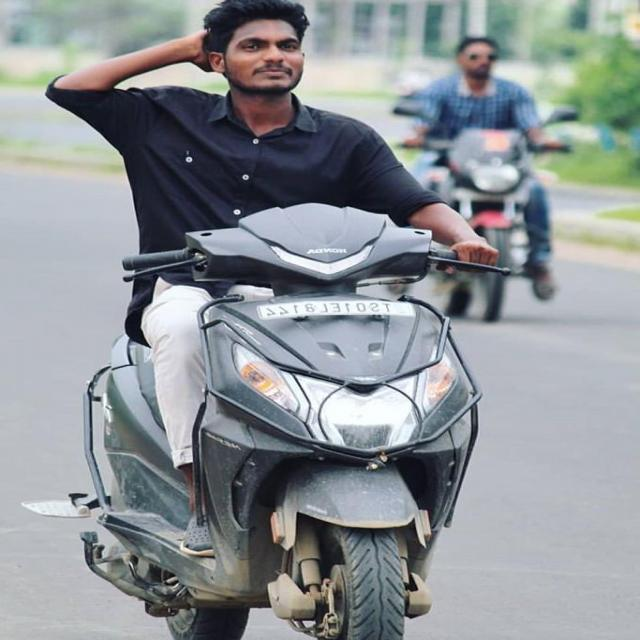Not Wearing Helmet: (152, 0, 354, 122)
